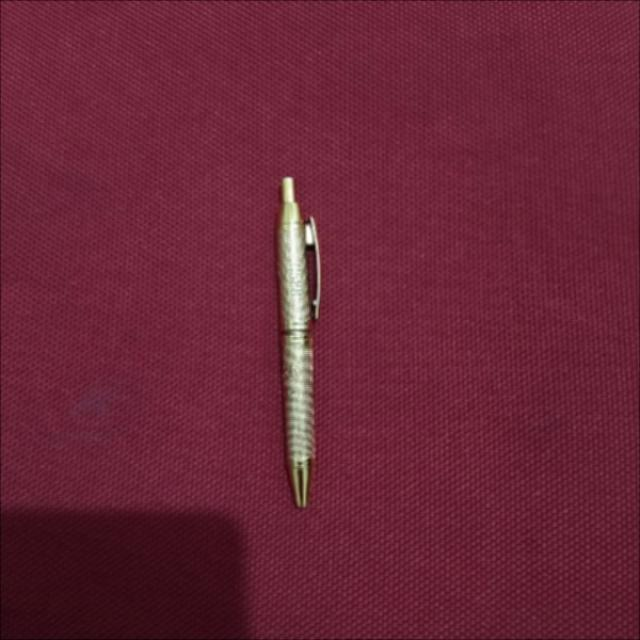signature pen: (276, 175, 325, 508)
